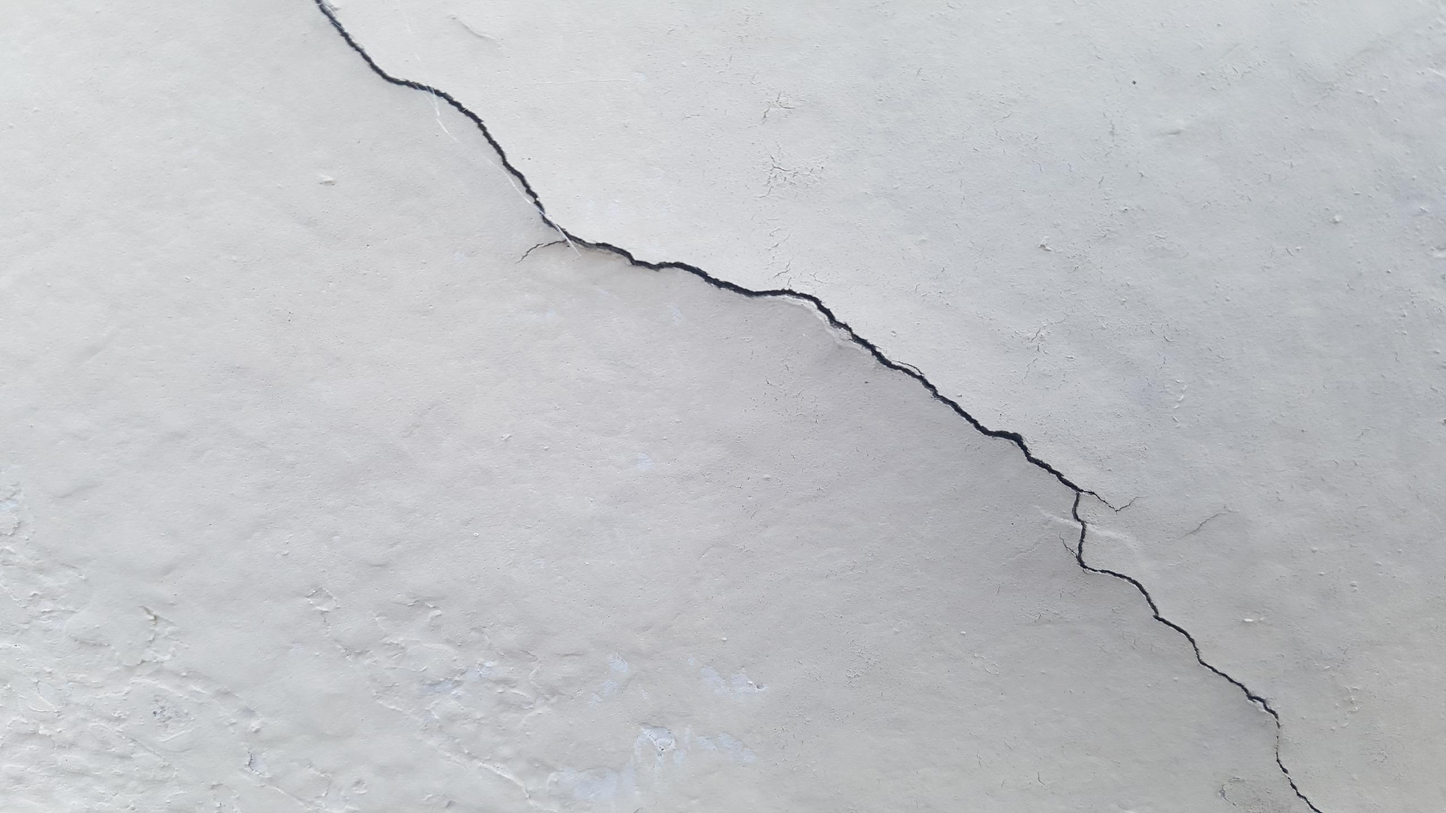crack: (317, 1, 1321, 811)
